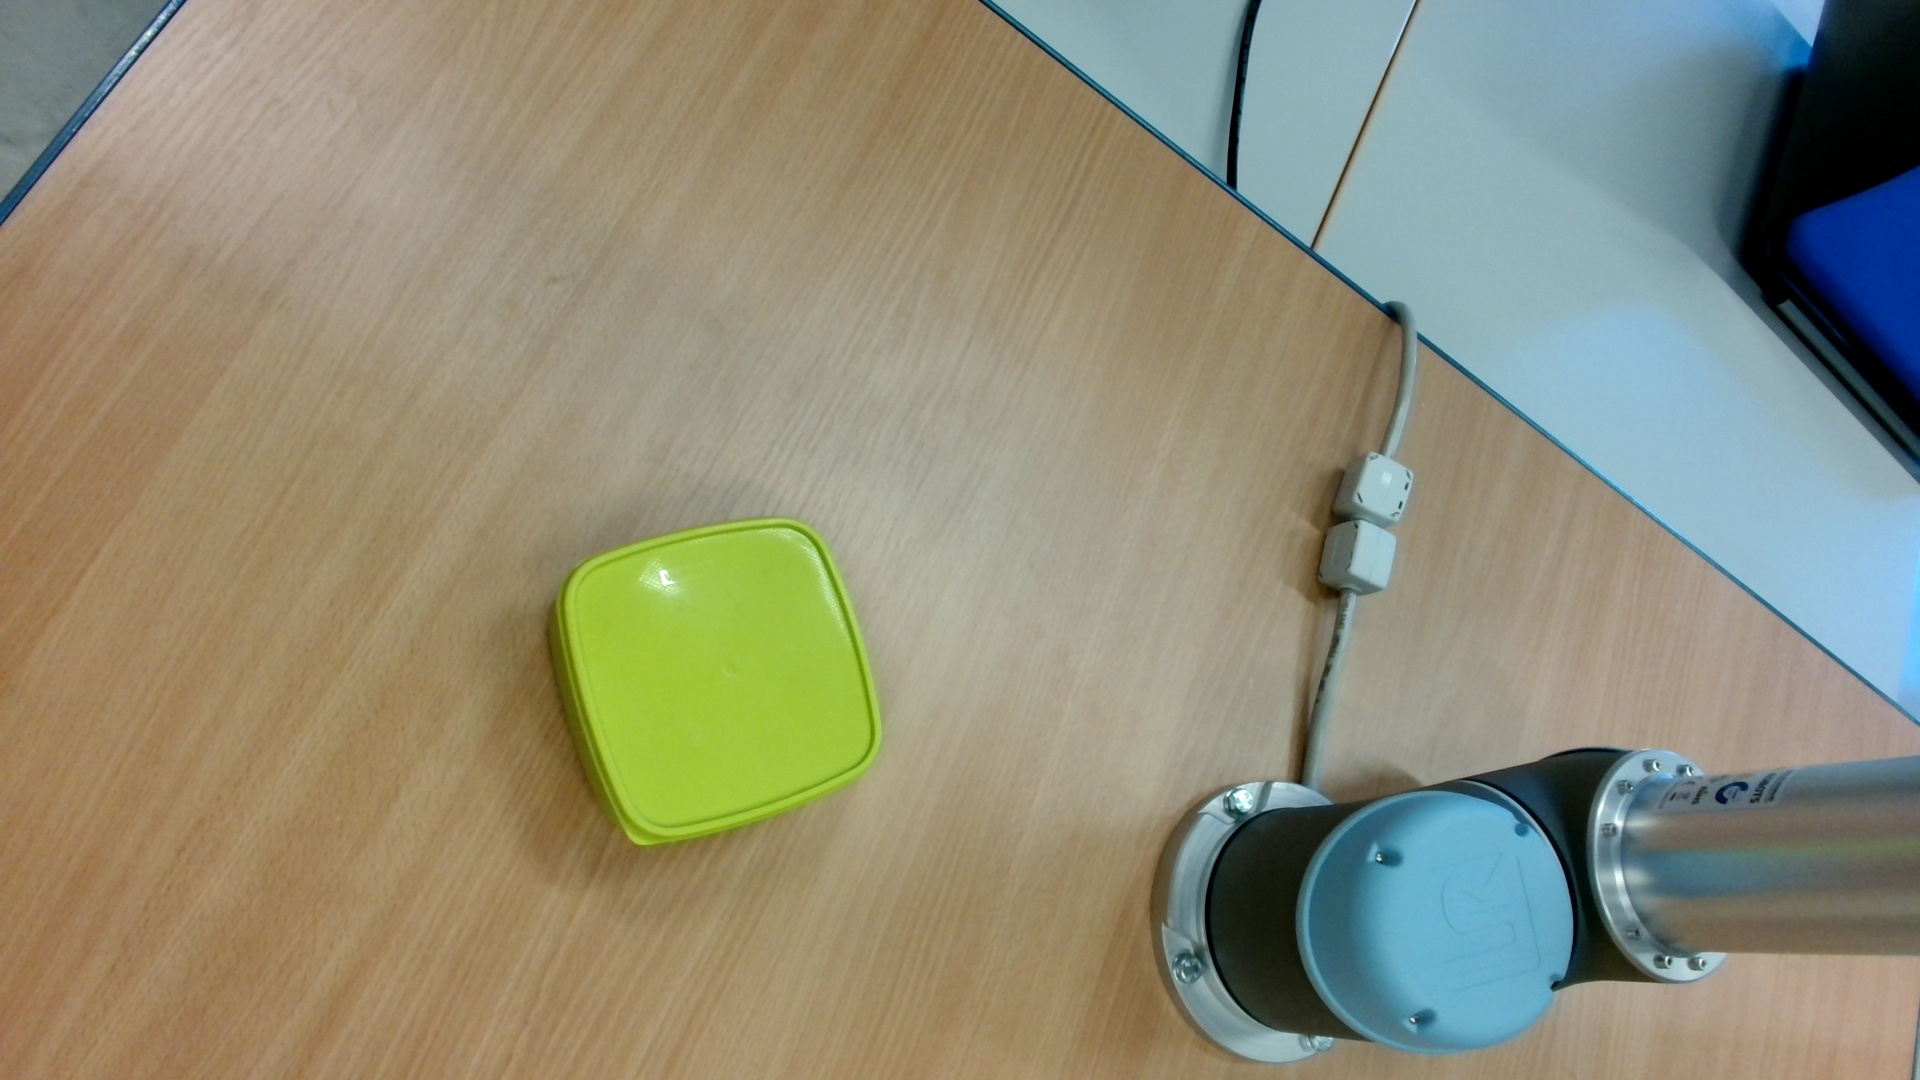Box: (545, 509, 887, 855)
